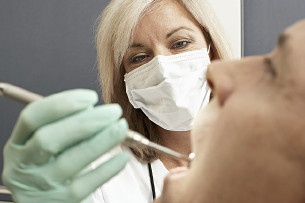Mask: (112, 22, 222, 132)
